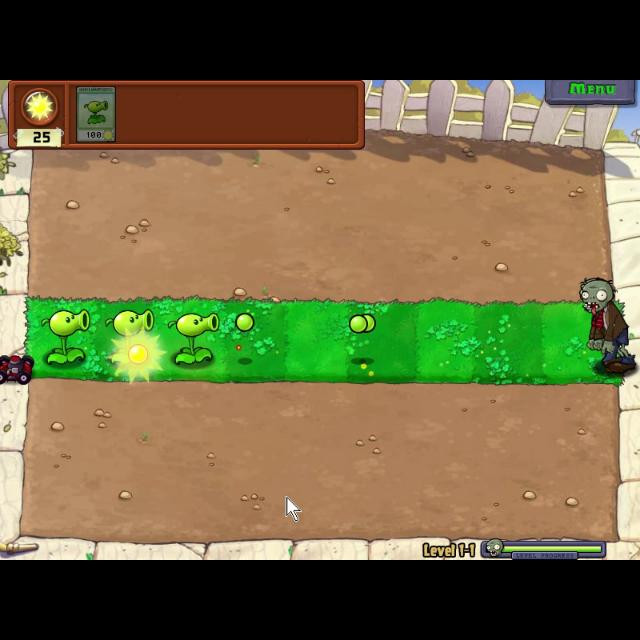Garden: (23, 293, 625, 389)
Menu Button: (544, 80, 636, 106)
Mower: (0, 352, 34, 388)
Peashooter: (76, 85, 116, 143)
Peashooter Seed: (100, 303, 156, 363), (162, 309, 218, 369), (38, 305, 92, 367)
Seed Panel: (6, 80, 367, 152)
Sun: (107, 324, 165, 384)
Zombie: (575, 276, 635, 378)
